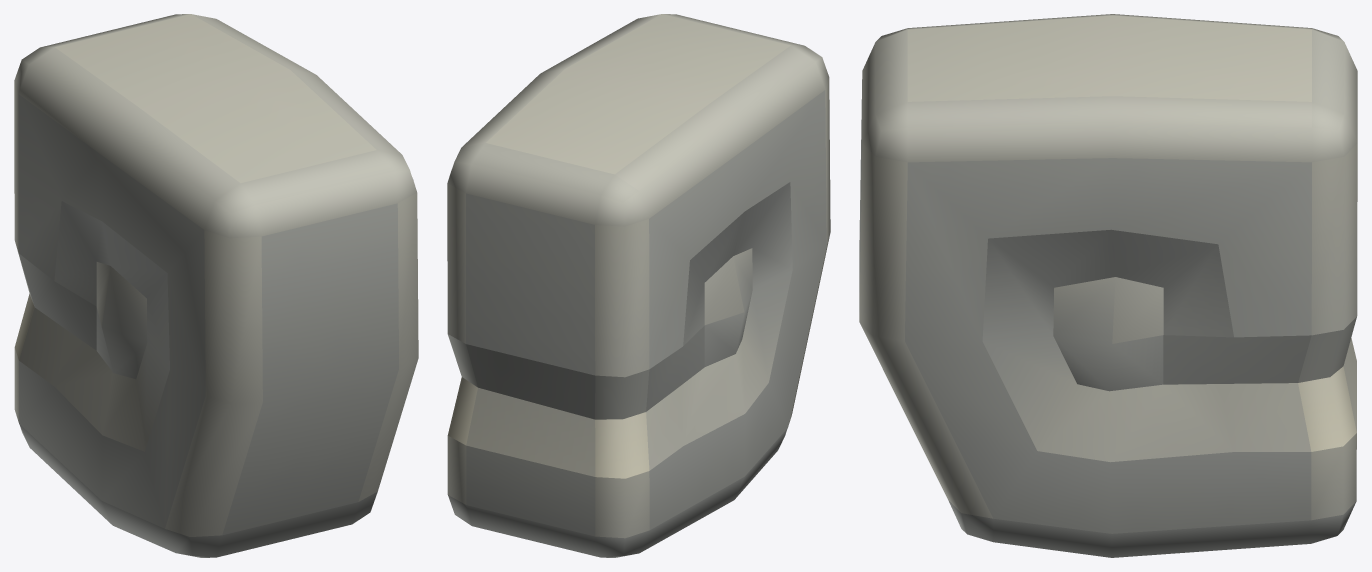
The model's file is stone_ornament1_LOD_setup.fbx.
3 renders of one model, left to right at view 1: azimuth 30°, elevation 25°; view 2: azimuth 150°, elevation 25°; view 3: azimuth 270°, elevation 25°, orthographic. The views are drawn at different scales.
Visible parts, largest first — view 1: stone_ornament1_LOD0; view 2: stone_ornament1_LOD0; view 3: stone_ornament1_LOD0.
Boxes of the visible parts, x1,y1,x2,y2 form: stone_ornament1_LOD0: [14, 14, 418, 557]; stone_ornament1_LOD0: [447, 14, 830, 557]; stone_ornament1_LOD0: [859, 14, 1357, 557].
Size of what is drawn, in the model's own units: 31.2 by 55.81 by 54.76.
